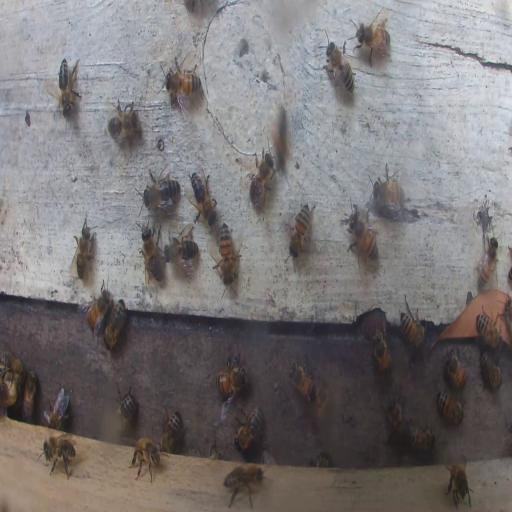nonpollenbee: (350, 9, 391, 66), (343, 201, 379, 263), (324, 37, 356, 97), (248, 145, 276, 212), (222, 462, 266, 503), (71, 212, 96, 281), (372, 164, 405, 216), (143, 167, 181, 211), (140, 221, 166, 284), (55, 58, 83, 115), (215, 351, 248, 399), (42, 434, 78, 477), (398, 298, 428, 349), (188, 171, 216, 223), (287, 201, 312, 259), (216, 222, 239, 284), (128, 437, 160, 481), (233, 406, 263, 452), (107, 100, 139, 143), (166, 230, 200, 269), (83, 285, 111, 330), (446, 456, 470, 507), (382, 392, 405, 444), (104, 298, 127, 350), (476, 238, 499, 288), (42, 388, 69, 429), (476, 308, 503, 349), (288, 358, 314, 400), (160, 409, 184, 454), (162, 71, 202, 96), (444, 349, 468, 390), (436, 390, 464, 424), (372, 329, 392, 374), (407, 423, 436, 452), (114, 386, 136, 424), (480, 352, 502, 388), (22, 370, 37, 419), (315, 376, 330, 424), (2, 353, 23, 382), (313, 452, 329, 467)
pollenbee: (270, 103, 290, 164)
